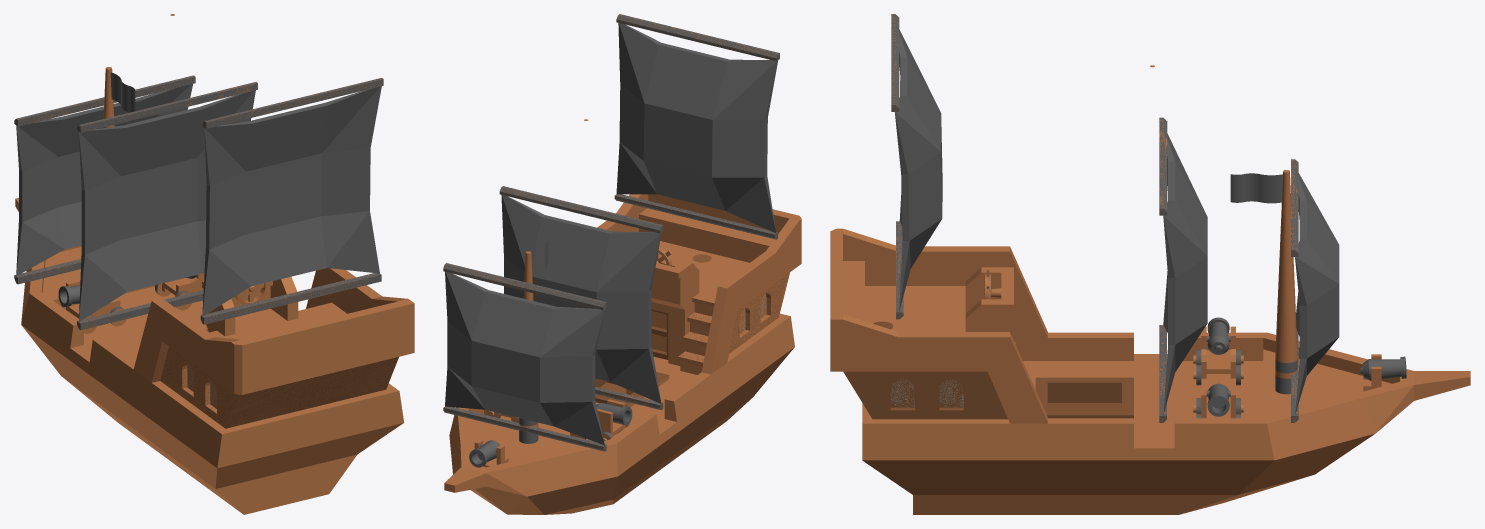
The model's file is ShipWithOneSail.fbx.
The picture shows the model from 3 angles, left to right: view 1: azimuth 30°, elevation 25°; view 2: azimuth 150°, elevation 25°; view 3: azimuth 270°, elevation 25°; orthographic projection. The views are drawn at different scales.
Parts seen in each view (by area): view 1: ship_dark_8angles, sail_back, sail_middle, sail_front, cannon_right, steering; view 2: ship_dark_8angles, sail_back, sail_front, sail_middle, cannon_left (×2), cannon_front; view 3: ship_dark_8angles, sail_back, sail_middle, sail_front, cannon_left (×2), cannon_front.
Part boxes in pixels (box(x1,y1,x2,y2)): ship_dark_8angles: box(15, 14, 414, 514); sail_back: box(200, 78, 383, 324); sail_middle: box(77, 82, 257, 330); sail_front: box(14, 75, 195, 284); cannon_right: box(162, 273, 204, 295); steering: box(234, 281, 272, 306); ship_dark_8angles: box(444, 119, 801, 514); sail_back: box(614, 14, 779, 239); sail_front: box(443, 263, 606, 451); sail_middle: box(499, 186, 663, 410); cannon_left (×2): box(596, 399, 632, 436); cannon_front: box(469, 440, 499, 467); ship_dark_8angles: box(830, 65, 1470, 514); sail_back: box(891, 14, 942, 319); sail_middle: box(1159, 117, 1207, 422); sail_front: box(1291, 159, 1339, 422); cannon_left (×2): box(1201, 317, 1235, 378); cannon_front: box(1360, 356, 1406, 380).
Size of the model in its own units: 28.5 by 60.02 by 80.49.
